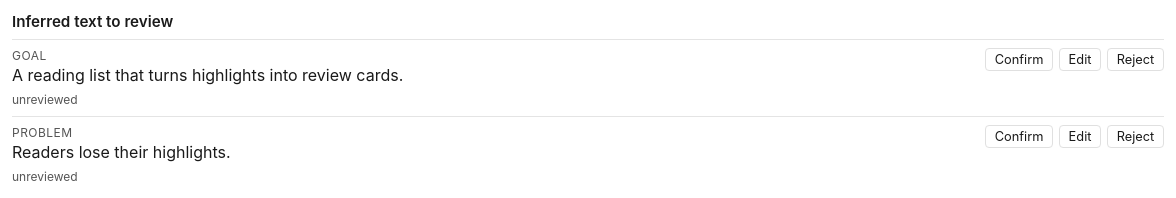
ReviewPanelComponent › should confirm the block behind a row
The image size is (1176, 198).
Click the button "Confirm" in the row of "Goal" at (1019, 60), box [985,48,1053,71]
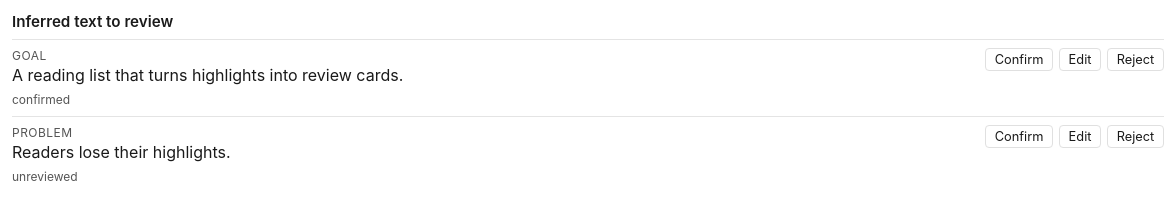
Result: the text "confirmed" is shown at [12,92,70,107]
Result: the text with class "review-state" reads "confirmed" at [12,92,70,107]
